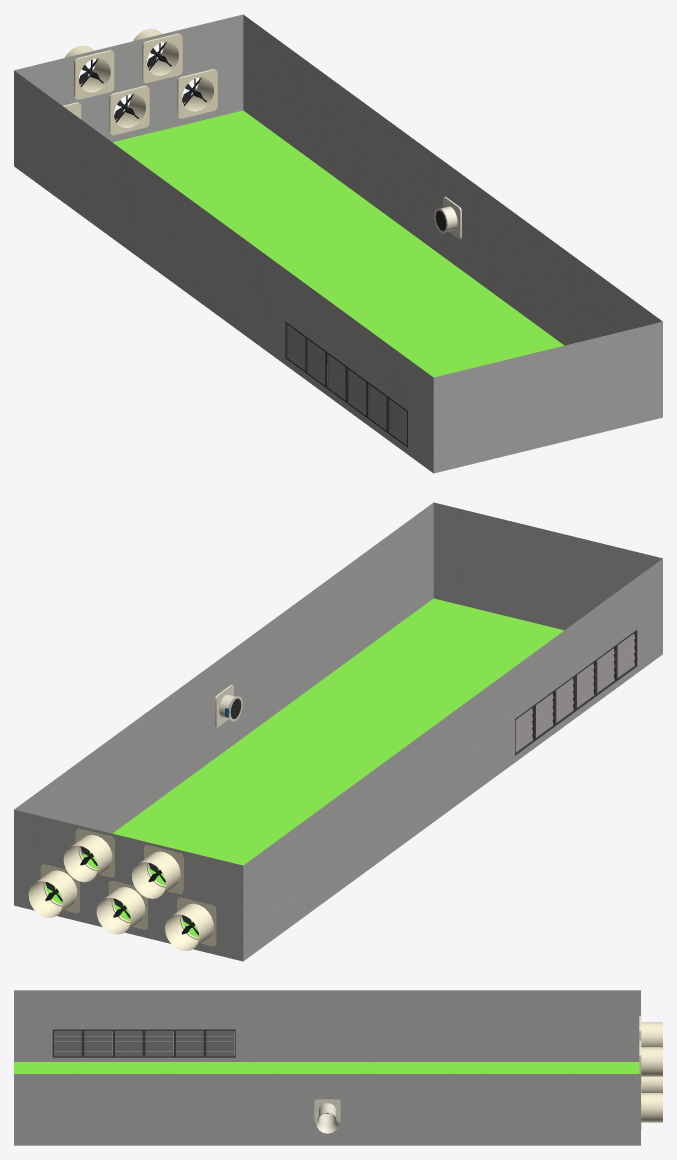
The picture shows the model from 3 angles, top to bottom: view 1: azimuth 30°, elevation 25°; view 2: azimuth 150°, elevation 25°; view 3: azimuth 270°, elevation 25°; orthographic projection. The views are drawn at different scales.
Visible parts, largest first — view 1: Floor, Wall_Left, Wall_Right, Wall_Font, Wall_Back, DA 17K System, BF55 Gable Fans_3, BF55 Gable Fans_4, BF55 Gable Fans_5, BF55 Gable Fans_1, DA 17K System_Plane, DA 820; view 2: Floor, Wall_Left, Wall_Right, Wall_Font, Wall_Back, DA 17K System, BF55 Gable Fans_3, BF55 Gable Fans_2, BF55 Gable Fans_4, BF55 Gable Fans_5, BF55 Gable Fans_1, DA 17K System_Plane (+1 smaller); view 3: Wall_Right, Wall_Left, Floor, DA 17K System, DA 820, DA 17K System_Plane, BF55 Gable Fans_4, BF55 Gable Fans_1, BF55 Gable Fans_3, BF55 Gable Fans_5.
Part boxes in pixels (<box>): Floor: <box>113,110,563,377</box>; Wall_Left: <box>14,70,433,473</box>; Wall_Right: <box>243,14,662,345</box>; Wall_Font: <box>433,321,662,473</box>; Wall_Back: <box>14,14,243,142</box>; DA 17K System: <box>285,321,407,447</box>; BF55 Gable Fans_3: <box>65,45,114,99</box>; BF55 Gable Fans_4: <box>133,28,182,83</box>; BF55 Gable Fans_5: <box>109,85,149,135</box>; BF55 Gable Fans_1: <box>177,69,217,118</box>; DA 17K System_Plane: <box>287,325,406,417</box>; DA 820: <box>434,196,461,239</box>; Floor: <box>45,598,563,937</box>; Wall_Left: <box>243,558,662,961</box>; Wall_Right: <box>14,502,433,855</box>; Wall_Font: <box>433,502,662,630</box>; Wall_Back: <box>14,809,243,961</box>; DA 17K System: <box>515,630,637,755</box>; BF55 Gable Fans_3: <box>132,845,183,898</box>; BF55 Gable Fans_2: <box>165,897,216,950</box>; BF55 Gable Fans_4: <box>63,828,114,882</box>; BF55 Gable Fans_5: <box>96,881,147,934</box>; BF55 Gable Fans_1: <box>28,864,79,917</box>; DA 17K System_Plane: <box>515,633,635,725</box>; Wall_Right: <box>14,1074,640,1145</box>; Wall_Left: <box>14,990,640,1061</box>; Floor: <box>14,1062,639,1073</box>; DA 17K System: <box>52,1029,235,1057</box>; DA 820: <box>314,1099,340,1133</box>; DA 17K System_Plane: <box>54,1031,233,1035</box>; BF55 Gable Fans_4: <box>639,1040,662,1082</box>; BF55 Gable Fans_1: <box>641,1086,662,1128</box>; BF55 Gable Fans_3: <box>639,1015,662,1046</box>; BF55 Gable Fans_5: <box>641,1076,662,1092</box>.
Bounding box in the file's own units: 91.75 × 32 × 262.
5 materials, 4 textured.
